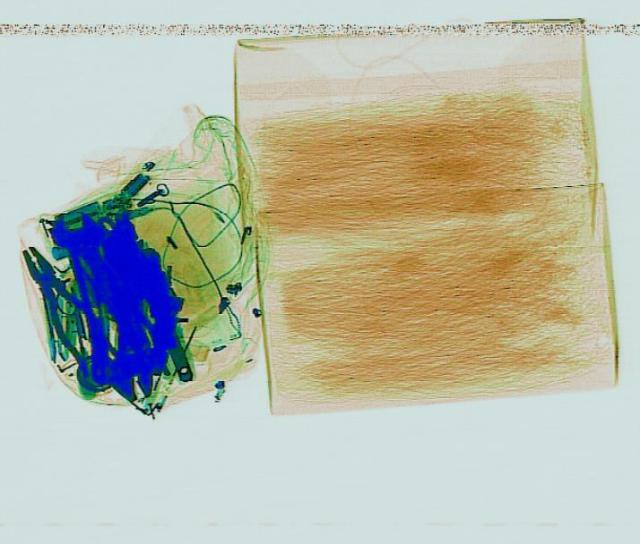Pliers: (5, 238, 124, 378)
Wrench: (42, 206, 156, 346)
